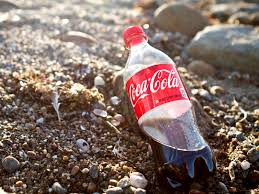Coca-Cola: (128, 68, 182, 103)
bottle: (123, 26, 214, 193)
plastic: (123, 25, 215, 186)
